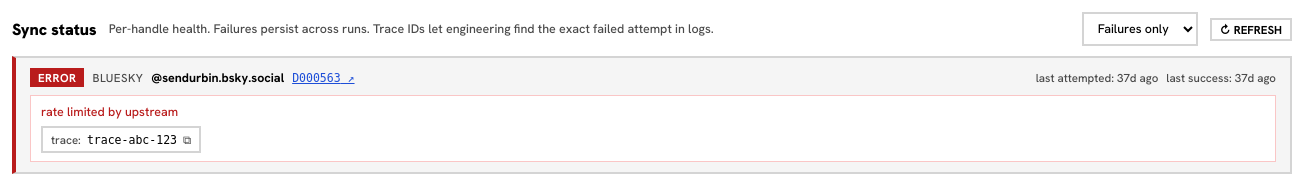
Test: PollStatusView › trace id button copies to clipboard and flips icon to "copied"
Expected: the text "trace-abc-123" is shown, [87, 132, 177, 146]
Click the button titled "Click to copy this trace ID".
click(121, 140)  # box [41, 126, 201, 153]
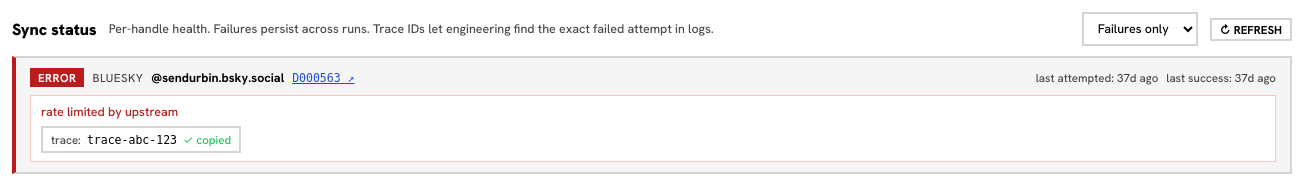
Expected: the text "trace-abc-123" is shown, [87, 132, 177, 146]
Expected: the text "✓ copied" is shown, [183, 132, 231, 147]
